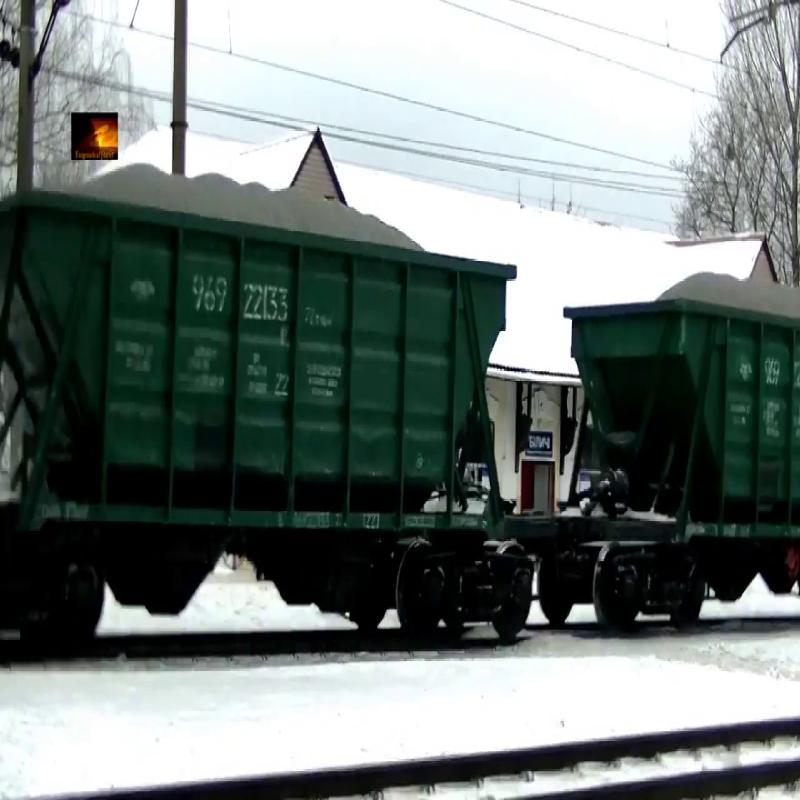train: (1, 169, 523, 644), (570, 258, 800, 639)
